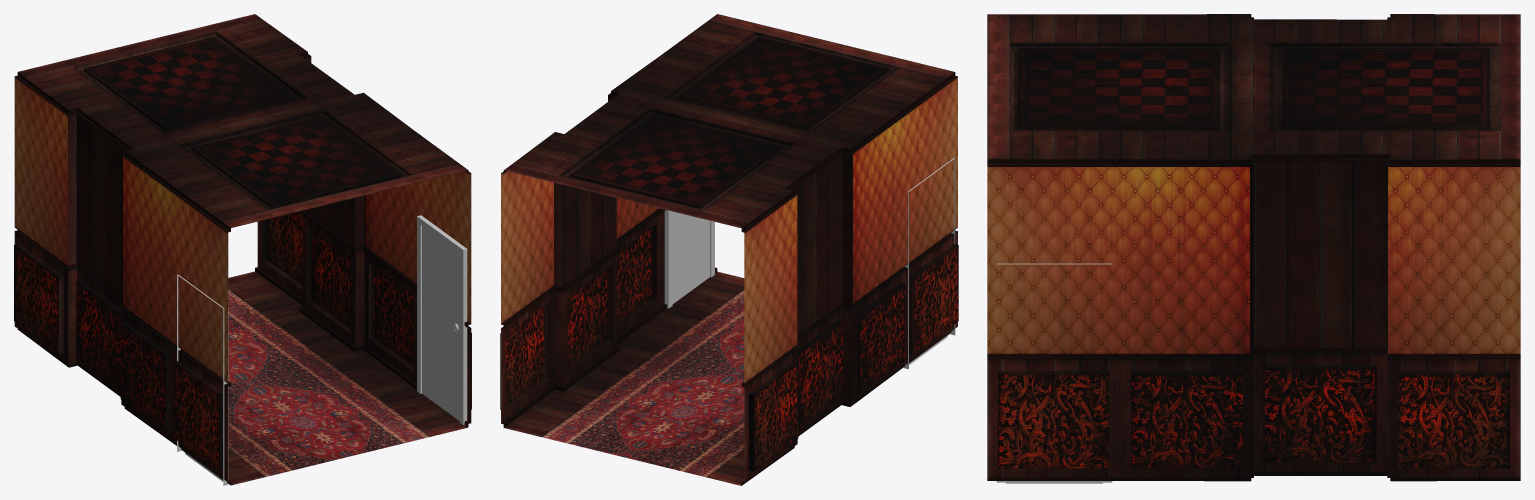
File: HallStraightDoors.FBX
The picture shows the model from 3 angles, left to right: view 1: azimuth 30°, elevation 25°; view 2: azimuth 150°, elevation 25°; view 3: azimuth 270°, elevation 25°; orthographic projection. The views are drawn at different scales.
Visible parts, largest first — view 1: HallStraightWithDoors01, Doors01; view 2: HallStraightWithDoors01, Doors01; view 3: HallStraightWithDoors01.
Boxes of the visible parts, x1=… form: HallStraightWithDoors01: x1=14, y1=14, x2=471, y2=485; Doors01: x1=177, y1=215, x2=468, y2=485; HallStraightWithDoors01: x1=500, y1=14, x2=958, y2=485; Doors01: x1=664, y1=157, x2=955, y2=369; HallStraightWithDoors01: x1=987, y1=14, x2=1520, y2=481.
Size of the model in its own units: 69 by 67.67 by 101.
